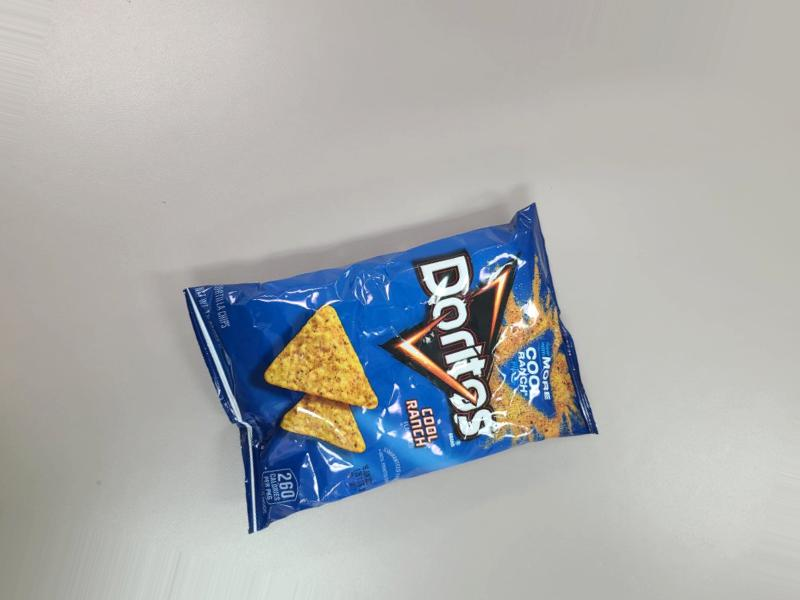doritos: (193, 172, 565, 535)
